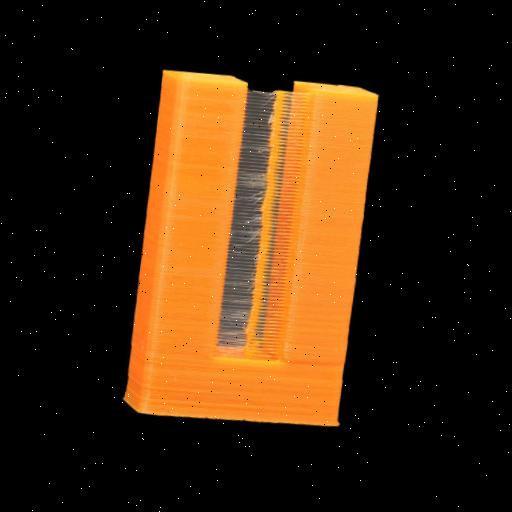stringing: (217, 84, 318, 366)
